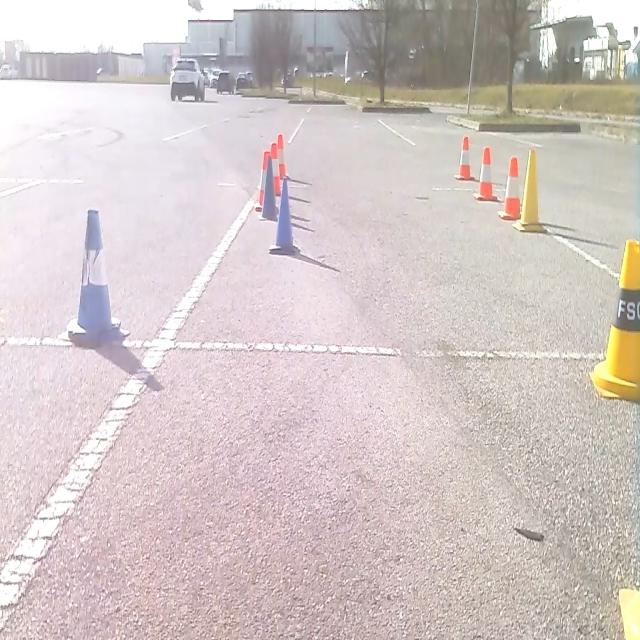blue_cone: (66, 206, 123, 346), (268, 174, 300, 255), (260, 153, 278, 220)
orange_cone: (498, 154, 520, 220), (473, 144, 498, 202), (454, 134, 476, 180), (254, 150, 270, 212), (270, 141, 282, 194), (276, 132, 288, 178)
yellow_cone: (589, 236, 639, 402), (513, 146, 546, 233)
